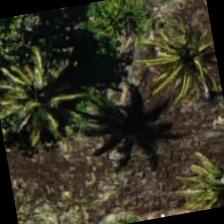Kelapa_Sawit: (0, 42, 90, 147), (142, 2, 222, 102), (166, 153, 223, 215)
